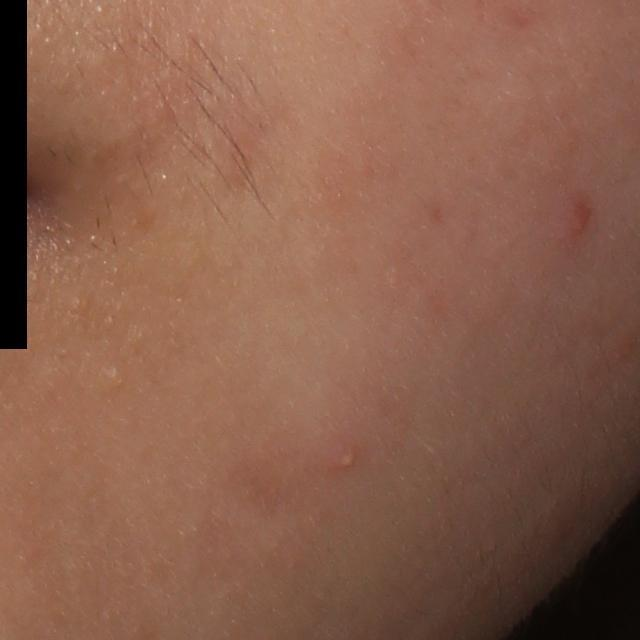comedo: (107, 365, 129, 392)
papule: (565, 202, 593, 240)
pustule: (329, 443, 364, 477)
